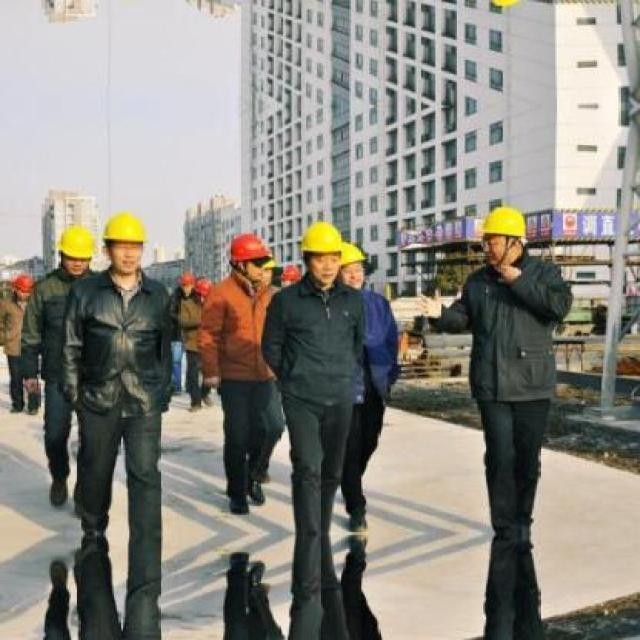red helmet: (14, 275, 32, 294), (195, 278, 212, 298), (177, 274, 196, 288), (284, 264, 299, 280)
yellow helmet: (479, 205, 533, 238), (106, 209, 150, 245), (59, 221, 96, 262), (302, 219, 343, 254), (336, 240, 373, 263)
